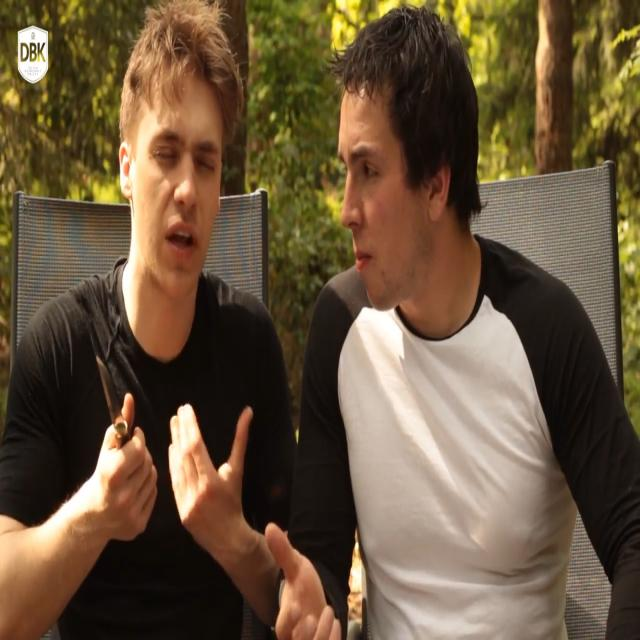knife: (88, 328, 135, 447)
